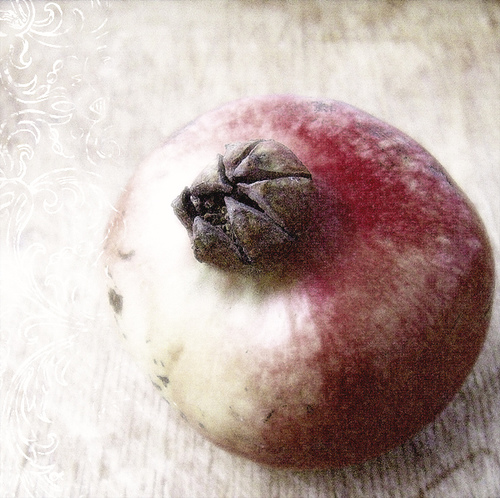pomogranate: (103, 102, 497, 474)
